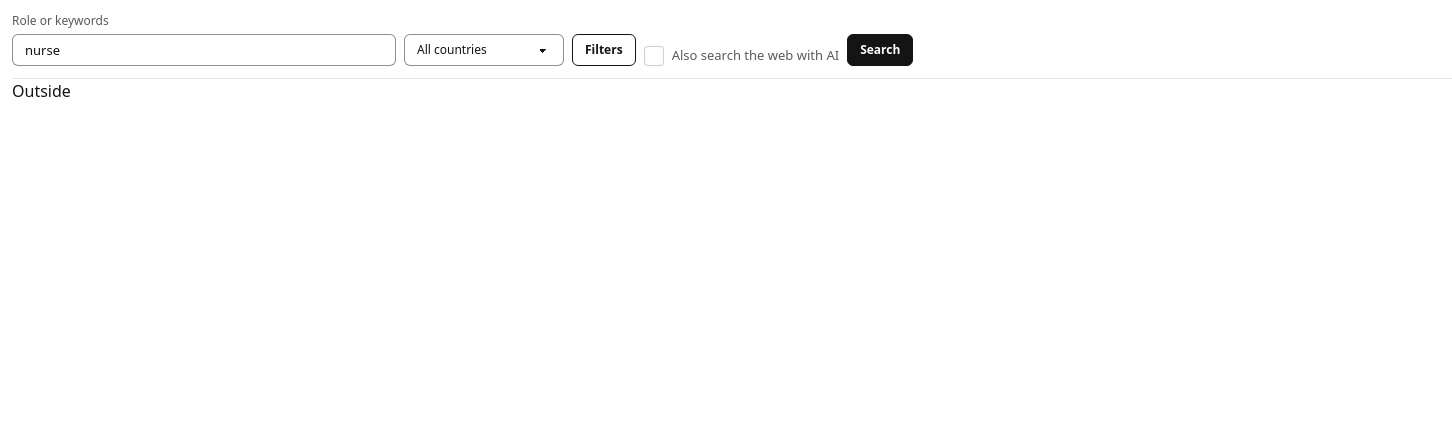
Test: SearchFilterBar active filters › counts active filters and shows a removable chip for each
Click the button "Filters" at (604, 50), box [572,34,636,66]
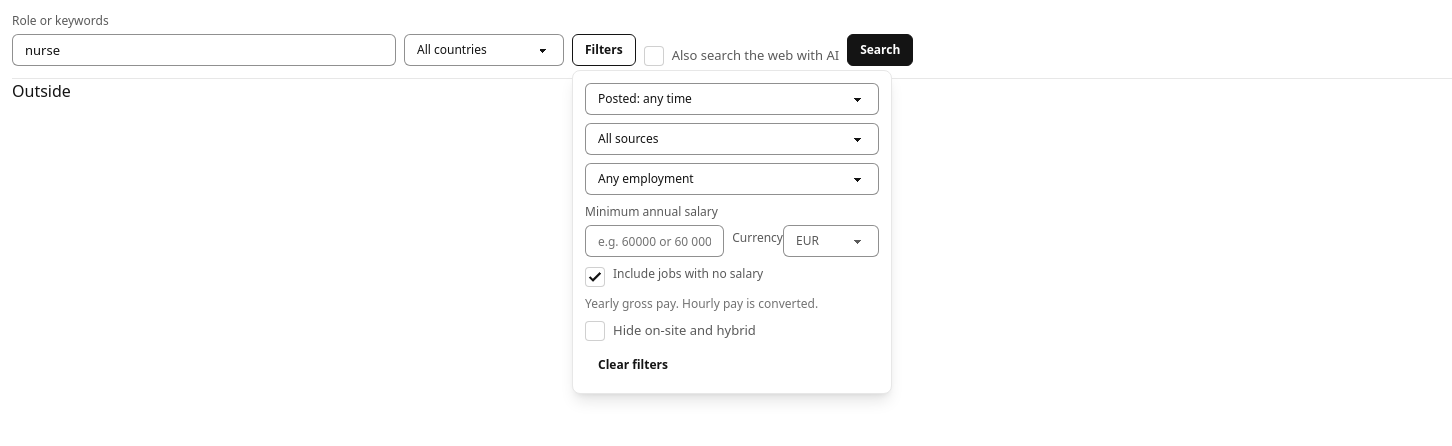
Select "Last 7 days" in the dropdown named "Posted within" at (732, 99), box [585,83,879,115]
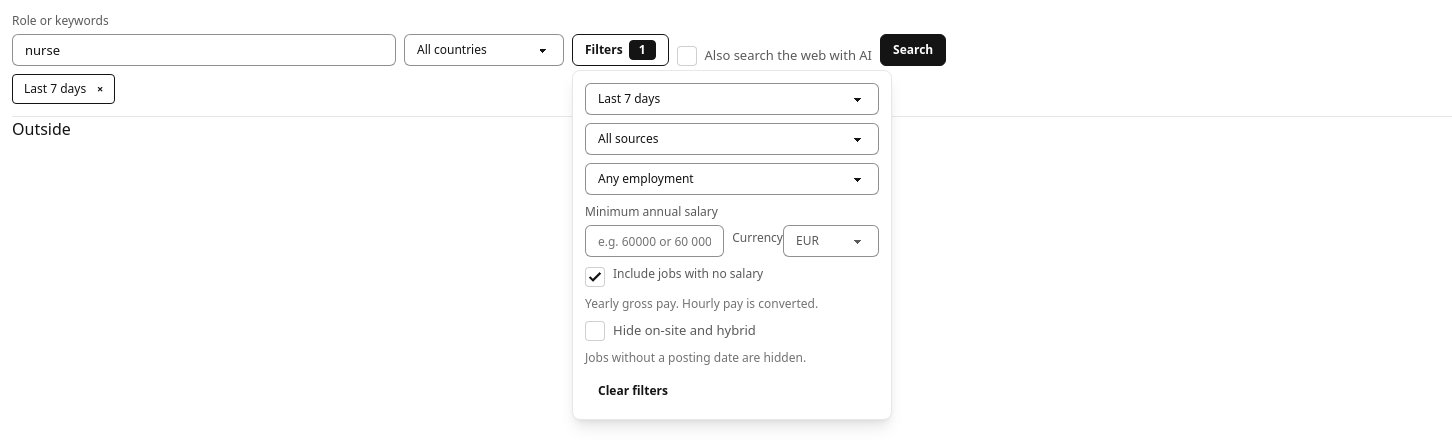
Click the checkbox labelled "Hide on-site and hybrid" at (595, 331), box [585,321,605,341]
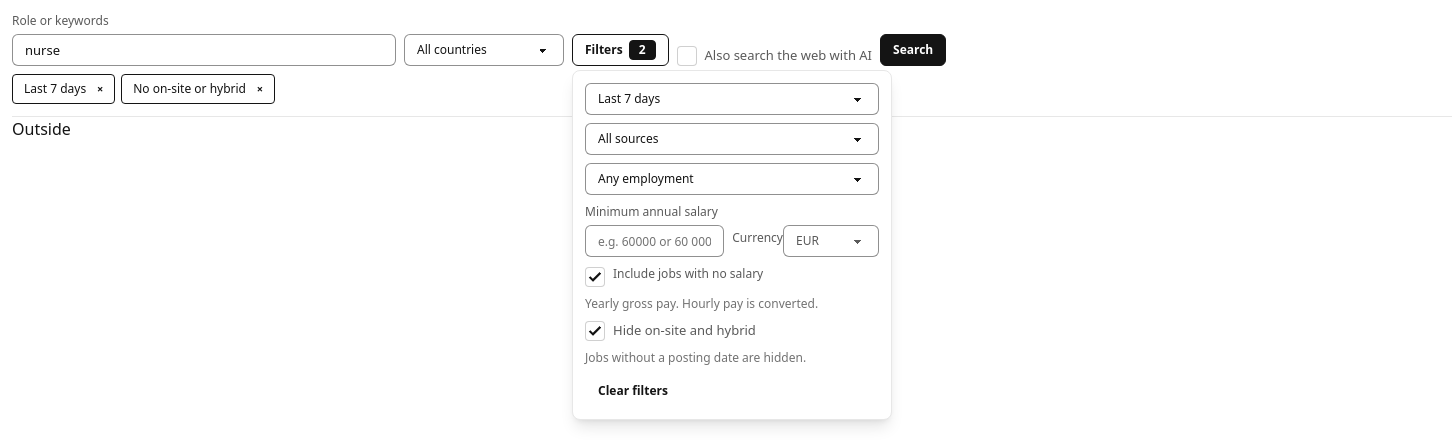
Select "Remotive" in the dropdown named "Job source" at (732, 139), box [585,123,879,155]
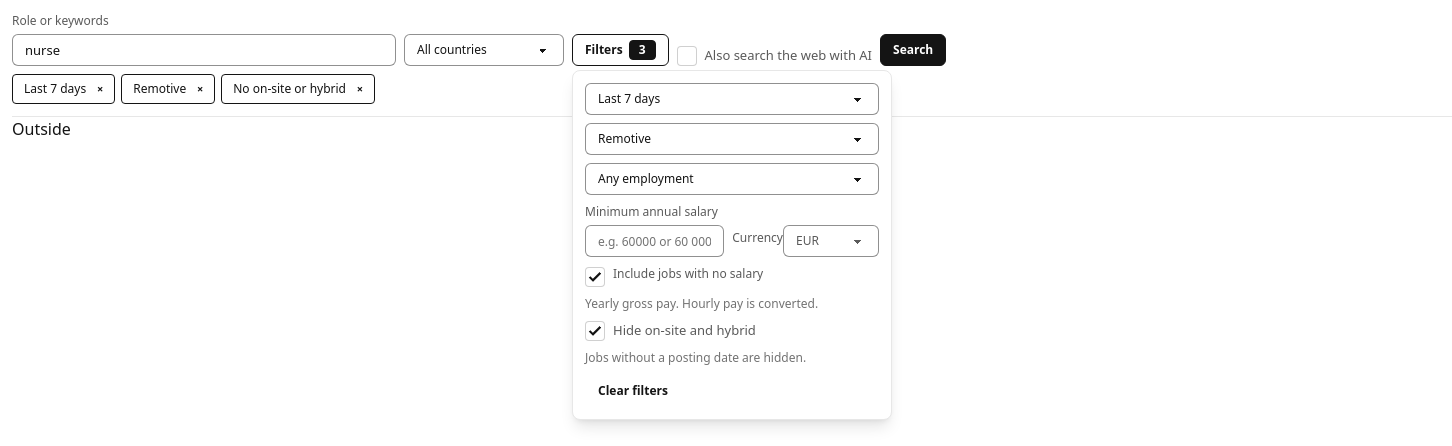
Type "60000" into the field labelled "Minimum annual salary" at (655, 241), box [585,225,724,257]
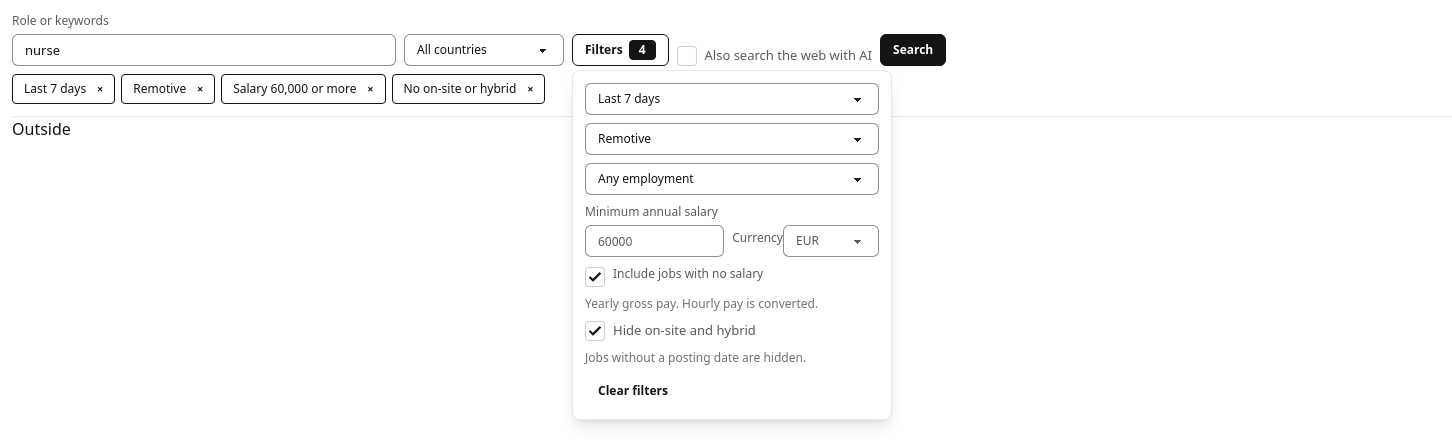
Result: the list item "Last 7 days" is shown at [24,80,86,97]
Result: the list item "No on-site or hybrid" is shown at [404,80,516,97]
Result: the list item "Salary 60,000 or more" is shown at [233,80,356,97]
